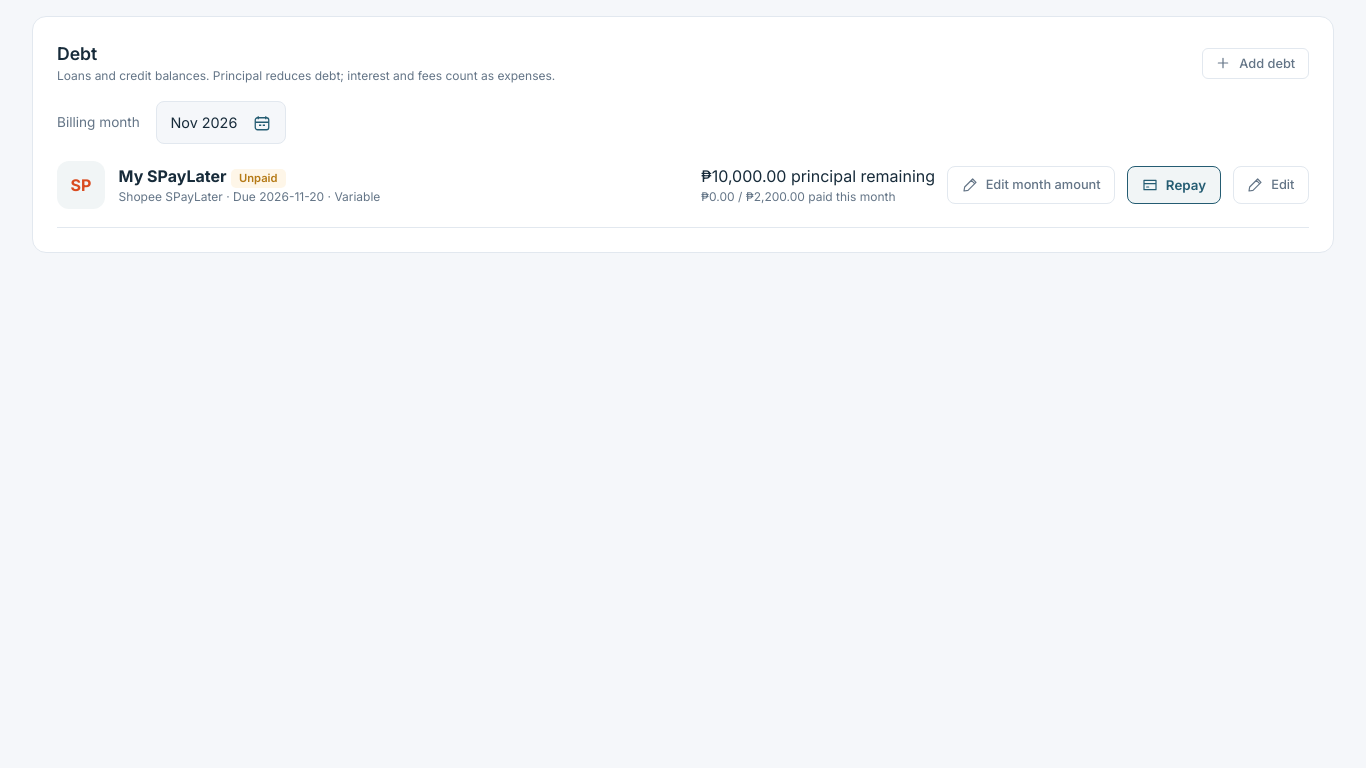
Test: distinguishes an unknown monthly amount from an explicit zero
The image size is (1366, 768).
Later steps or results of the test are not shown.
Click the button "Edit".
click(1271, 185)  # box left=1233, top=166, right=1309, bottom=204
(page scrolled)
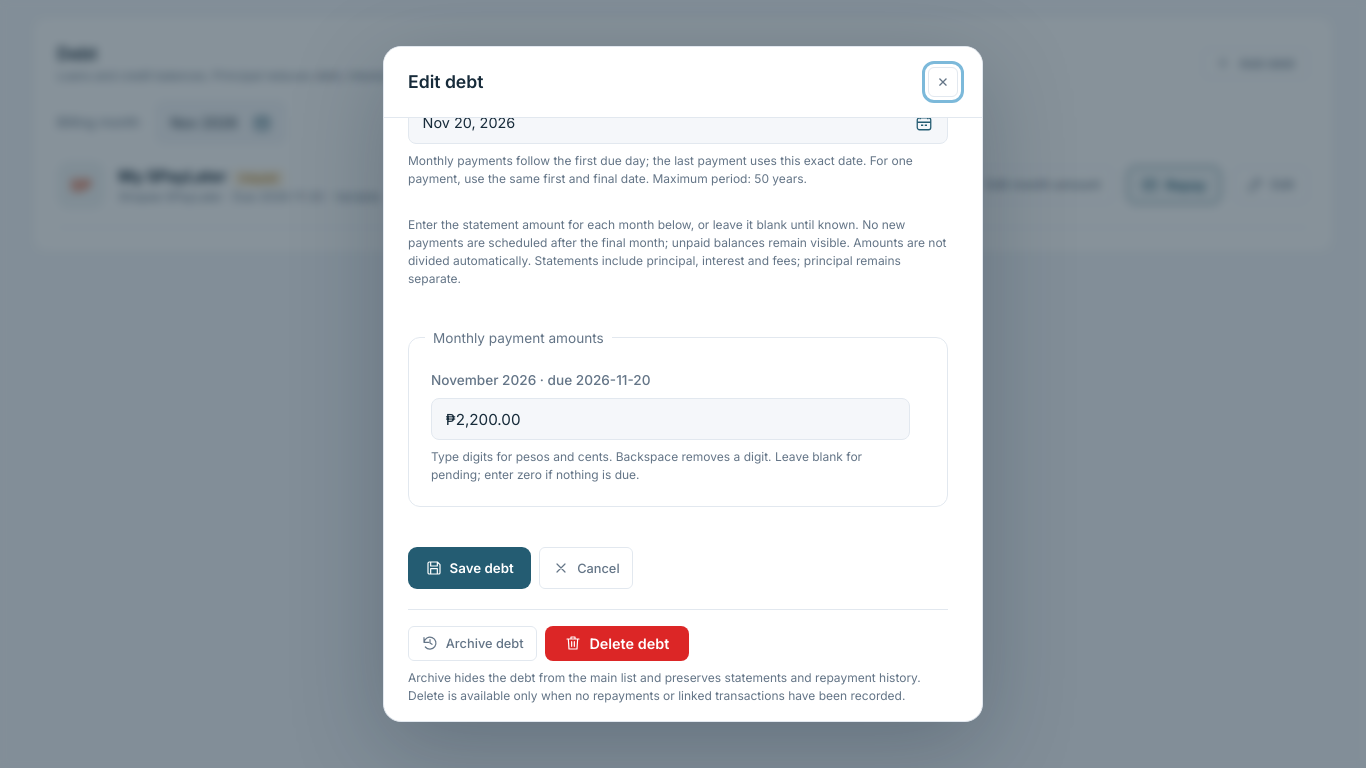
Expected: the field with placeholder "Amount pending" holds "₱2,200.00"
Press Delete in the field with placeholder "Amount pending", box left=431, top=398, right=910, bottom=440
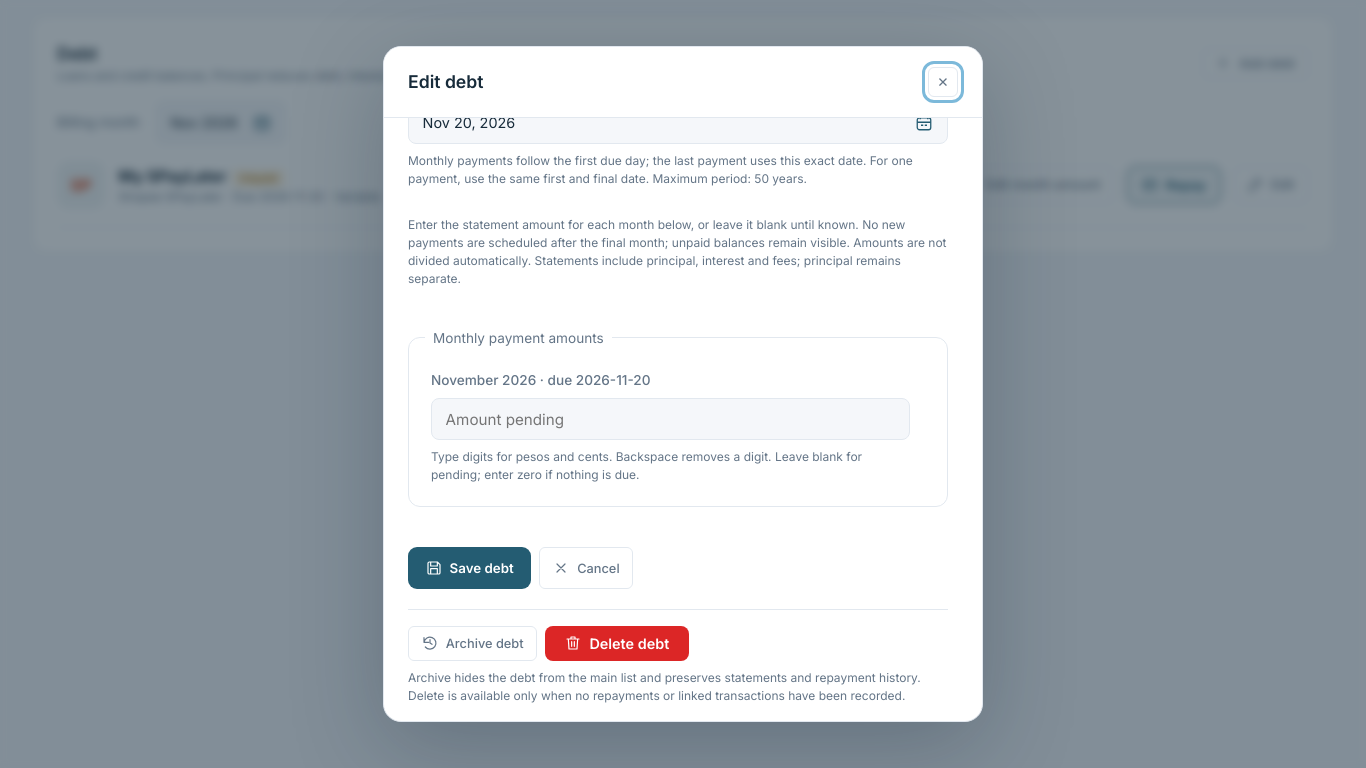
Expected: the field with placeholder "Amount pending" is empty
Press 0 in the field with placeholder "Amount pending", box left=431, top=398, right=910, bottom=440
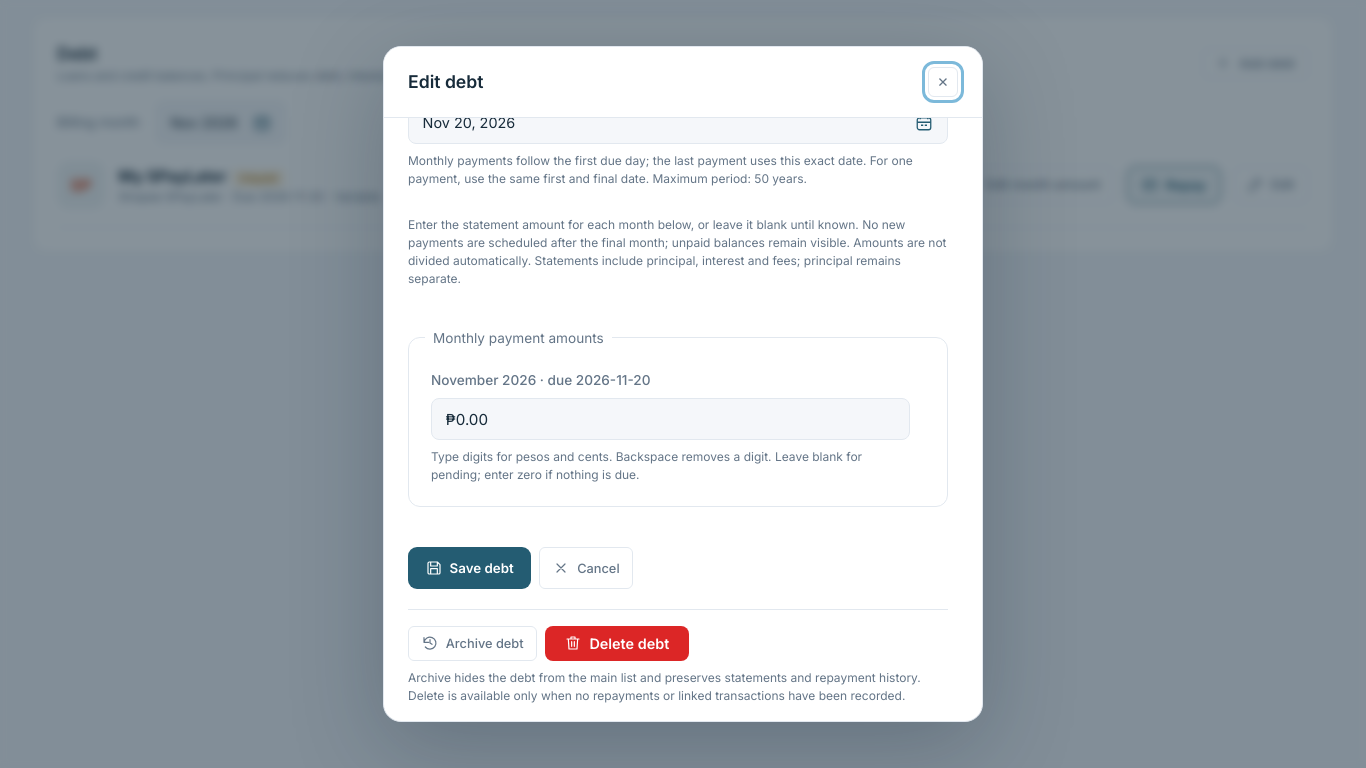
Expected: the field with placeholder "Amount pending" holds "₱0.00", left=431, top=398, right=910, bottom=440
